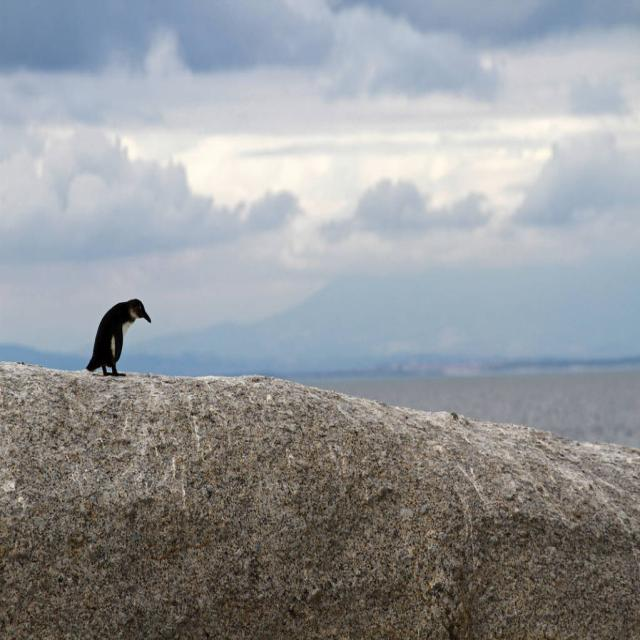Penguins: (82, 280, 160, 399)
